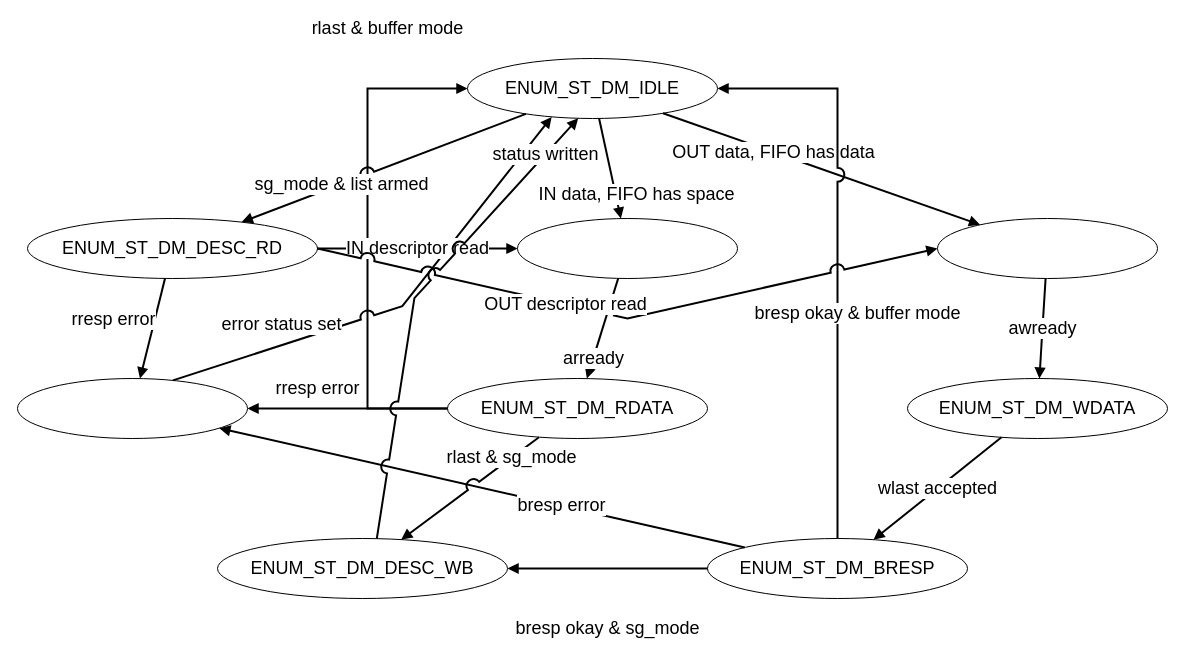
This 1185x656 diagram has some shape labels left out. The centre of each missing label's shape, as x and y in pixels:
ENUM_ST_DM_AR: (627,248)
ENUM_ST_DM_AW: (1047,248)
ENUM_ST_DM_ERR: (132,408)
